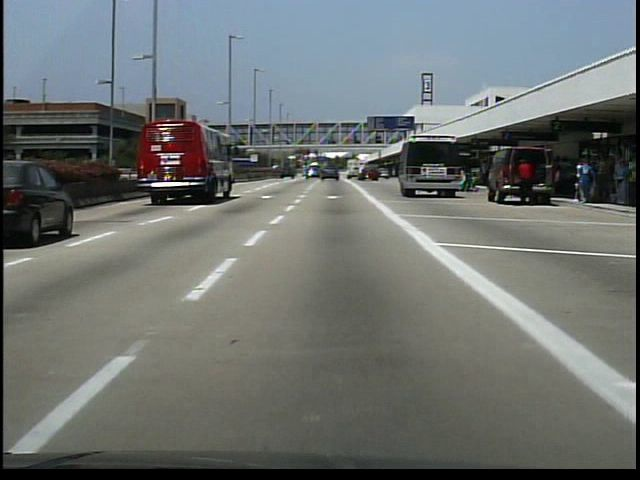person: (516, 154, 537, 209)
